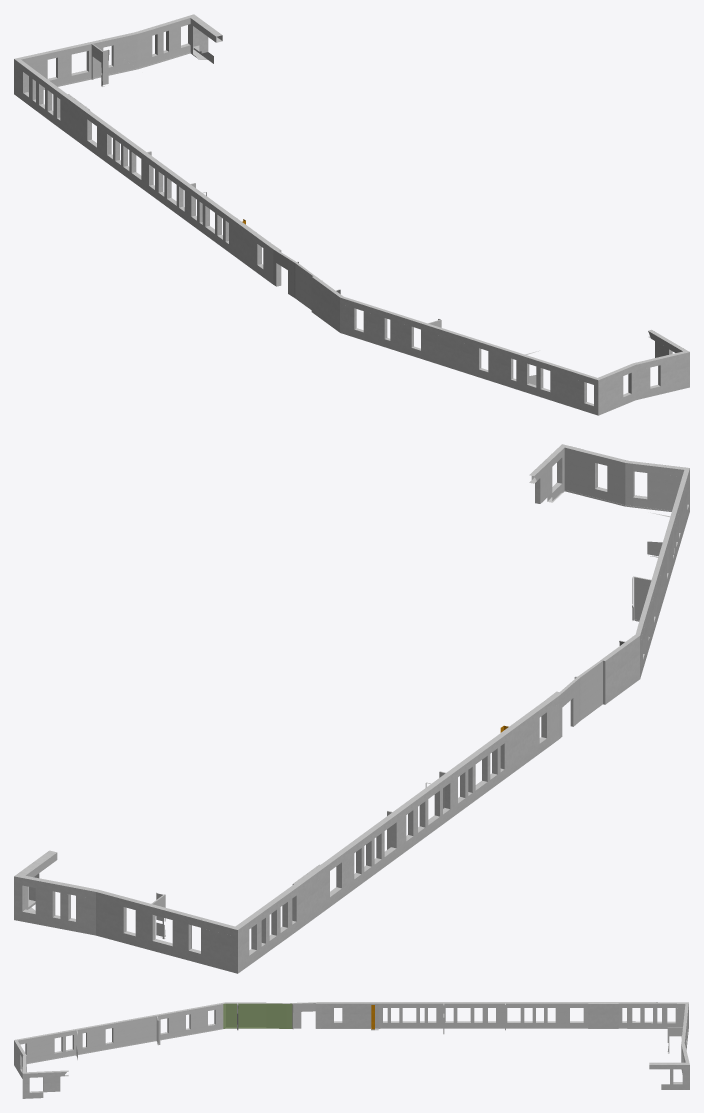
File: 2_floor_impostor_sized.glb
3 renders of one model, top to bottom at view 1: azimuth 30°, elevation 25°; view 2: azimuth 150°, elevation 25°; view 3: azimuth 270°, elevation 25°, orthographic. The views are drawn at different scales.
Parts seen in each view (by area): view 1: Cube_100; view 2: Cube_100; view 3: Cube_100.
Part boxes in pixels (x1,y1,x2,y2): Cube_100: (14, 14, 689, 415); Cube_100: (14, 444, 689, 973); Cube_100: (14, 1002, 689, 1098).
Size of the model in its own units: 18.87 by 3.1 by 75.11.
7 materials, 3 textured.
